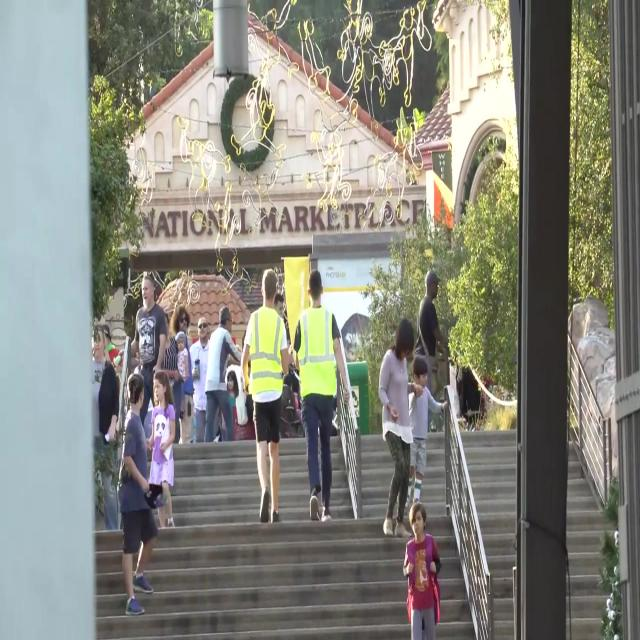Reflective-Jacket: (297, 305, 338, 401), (248, 308, 284, 399)
